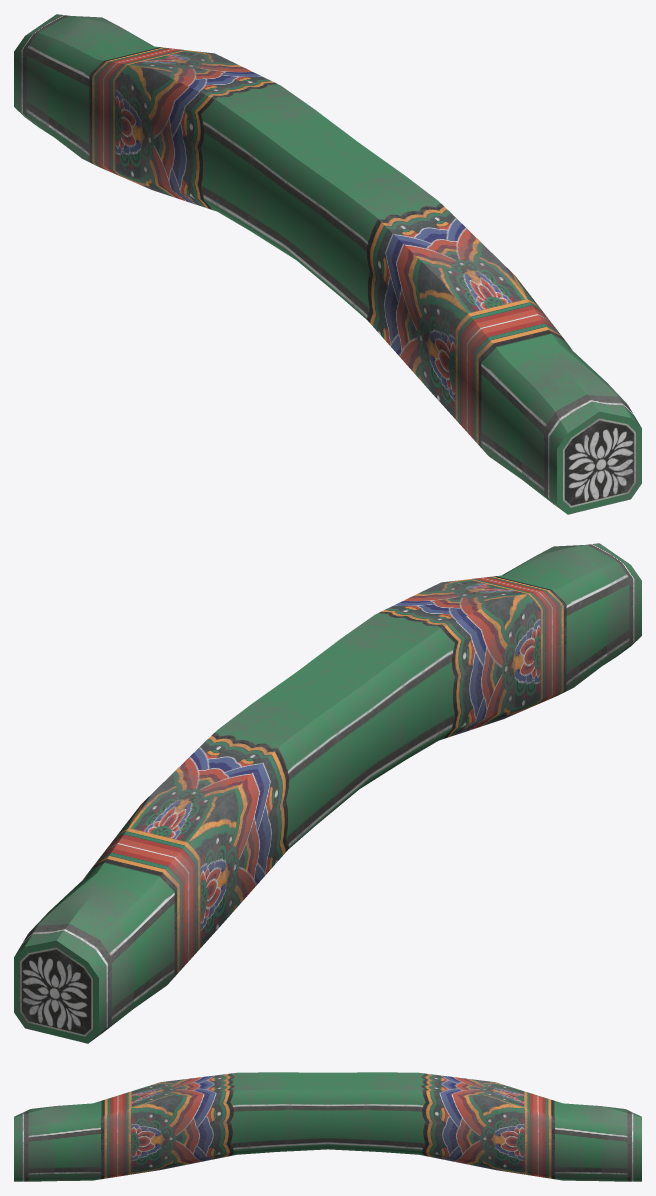
File: SM_Jungbo01c.fbx
The picture shows the model from 3 angles, top to bottom: view 1: azimuth 30°, elevation 25°; view 2: azimuth 150°, elevation 25°; view 3: azimuth 270°, elevation 25°; orthographic projection. The views are drawn at different scales.
Parts seen in each view (by area): view 1: SM_Jungbo01c; view 2: SM_Jungbo01c; view 3: SM_Jungbo01c.
Boxes of the visible parts, <box> form: SM_Jungbo01c: <box>14,14,641,514</box>; SM_Jungbo01c: <box>14,543,641,1043</box>; SM_Jungbo01c: <box>14,1072,641,1181</box>.
Size of the model in its own units: 25.34 by 280 by 45.16.
1 material, 1 textured.
